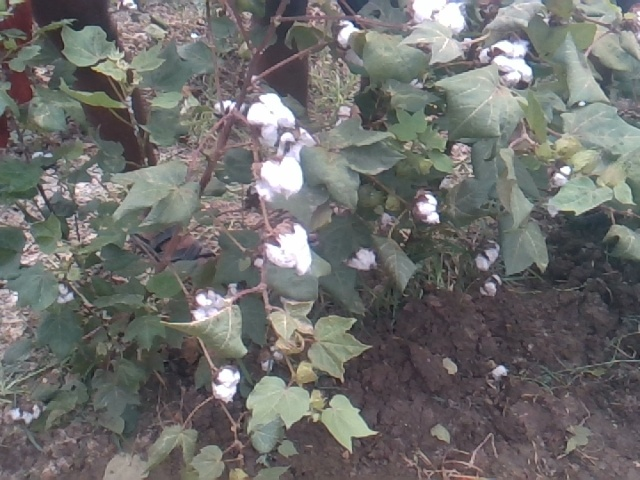cotton: (262, 221, 314, 275), (254, 155, 303, 205), (247, 92, 301, 137), (409, 1, 470, 37), (191, 285, 229, 325), (410, 188, 444, 225), (476, 39, 532, 61), (497, 55, 538, 84), (212, 366, 240, 405), (349, 242, 381, 274), (471, 240, 502, 273)
